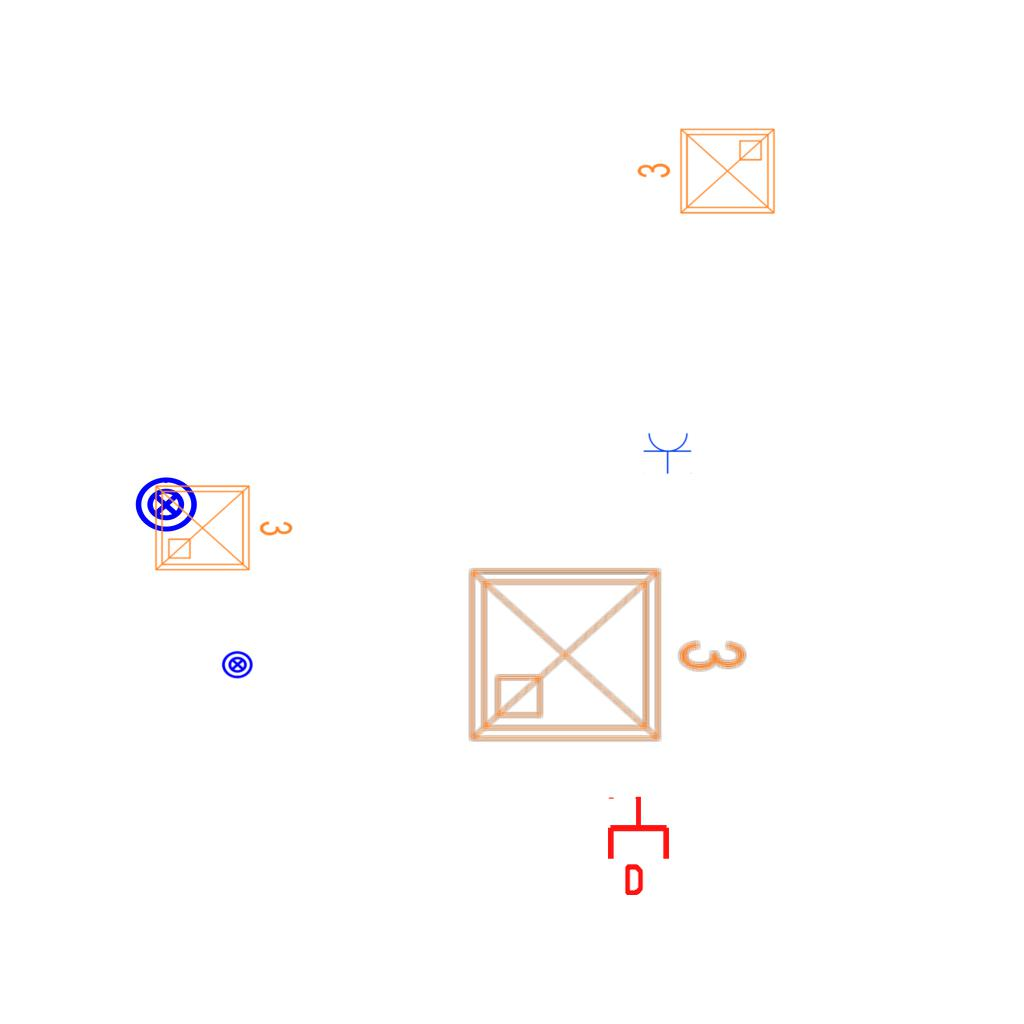Datenanschluss_einfach: (604, 795, 673, 895)
Einbaudownlights_LED_Konferenzraeume: (456, 547, 756, 755), (632, 121, 782, 225), (148, 474, 298, 578)
Schukosteckdose_einfach: (643, 431, 693, 474)
Taster_beleuchtet: (133, 472, 199, 538), (221, 648, 254, 681)
